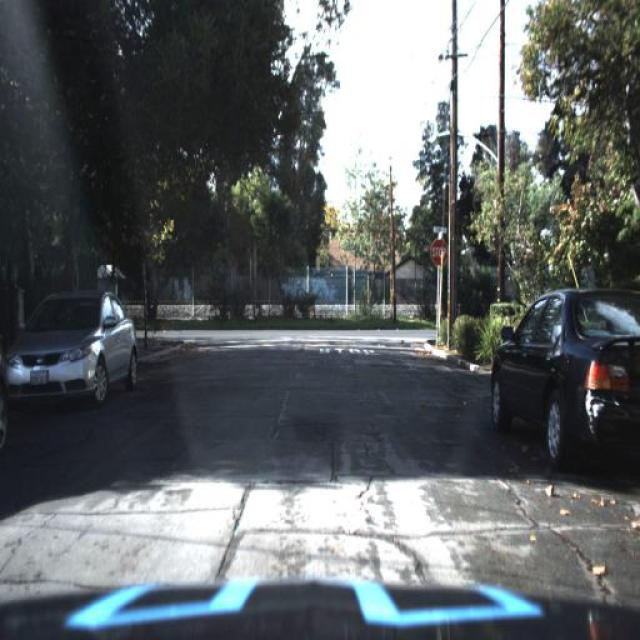car: (491, 285, 638, 466), (0, 267, 155, 432), (3, 282, 139, 406)
